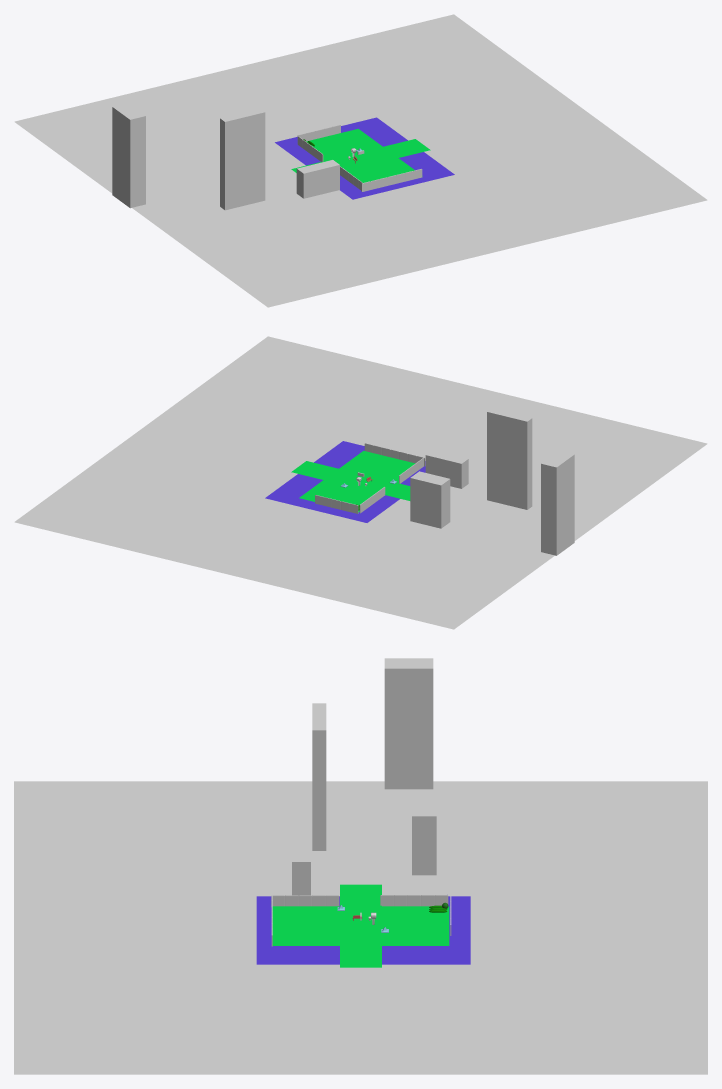
The model's file is blondmap.fbx.
The picture shows the model from 3 angles, top to bottom: view 1: azimuth 30°, elevation 25°; view 2: azimuth 150°, elevation 25°; view 3: azimuth 270°, elevation 25°; orthographic projection. The views are drawn at different scales.
Parts seen in each view (by area): view 1: Piano.004, Cubo.008, Piano.002, Cubo.007, Piano.001, Cubo.005, Cubo.002; view 2: Piano.004, Cubo.008, Piano.002, Cubo.007, Piano.001, Cubo.006, Cubo.005, Cubo.002; view 3: Piano.004, Piano.002, Cubo.007, Piano.001, Cubo.008, Cubo.006, Cubo.005, Cubo.003, Cubo.004.
Boxes of the visible parts, box(x1,y1,x2,y2) form: Piano.004: box(14, 14, 707, 307); Cubo.008: box(220, 108, 265, 210); Piano.002: box(291, 128, 430, 182); Cubo.007: box(112, 103, 145, 208); Piano.001: box(275, 117, 454, 199); Cubo.005: box(296, 160, 339, 198); Cubo.002: box(361, 169, 422, 191); Piano.004: box(14, 336, 707, 629); Cubo.008: box(487, 408, 532, 509); Piano.002: box(291, 450, 415, 512); Cubo.007: box(541, 450, 574, 555); Piano.001: box(265, 441, 425, 522); Cubo.006: box(410, 471, 450, 528); Cubo.005: box(425, 450, 468, 488); Cubo.002: box(364, 443, 425, 466); Piano.004: box(14, 781, 707, 1074); Piano.002: box(272, 884, 449, 967); Cubo.007: box(384, 658, 433, 789); Piano.001: box(256, 896, 470, 964); Cubo.008: box(312, 703, 326, 850); Cubo.006: box(412, 795, 436, 875); Cubo.005: box(292, 837, 310, 895); Cubo.003: box(271, 895, 339, 906); Cubo.004: box(380, 895, 448, 906).
Size of the model in its own units: 84066 by 16256 by 83644.
